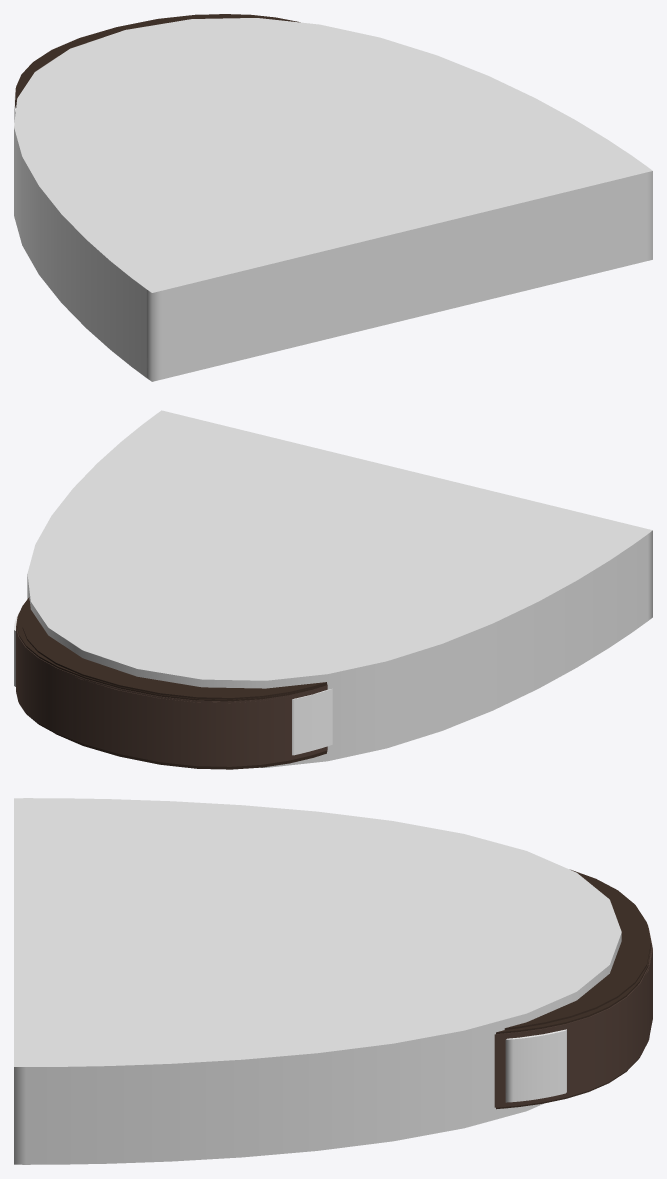
File: emoji_u1f470_1f3fe_200d_2640.glb
The picture shows the model from 3 angles, top to bottom: view 1: azimuth 30°, elevation 25°; view 2: azimuth 150°, elevation 25°; view 3: azimuth 270°, elevation 25°; orthographic projection. The views are drawn at different scales.
Parts seen in each view (by area): view 1: emoji_u1f470_1f3fe_200d_2640; view 2: emoji_u1f470_1f3fe_200d_2640; view 3: emoji_u1f470_1f3fe_200d_2640.
Boxes of the visible parts, <box> form: emoji_u1f470_1f3fe_200d_2640: <box>14,14,652,381</box>; emoji_u1f470_1f3fe_200d_2640: <box>14,410,652,769</box>; emoji_u1f470_1f3fe_200d_2640: <box>14,798,652,1164</box>.
Bounding box in the file's own units: 0.0331 × 0.0056 × 0.0332.
